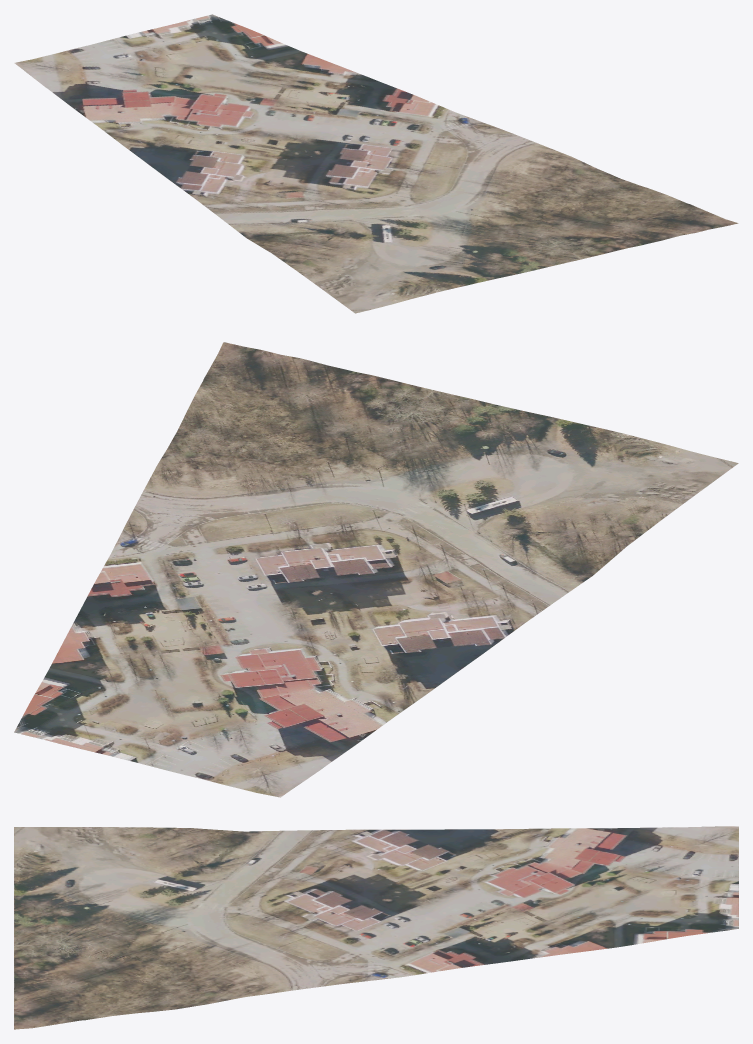
Rendered from CM_Terrain_24491892_6819794.fbx.
The picture shows the model from 3 angles, top to bottom: view 1: azimuth 30°, elevation 25°; view 2: azimuth 150°, elevation 25°; view 3: azimuth 270°, elevation 25°; orthographic projection. The views are drawn at different scales.
Parts seen in each view (by area): view 1: CM_Terrain_24491892_6819794_LOD0; view 2: CM_Terrain_24491892_6819794_LOD0; view 3: CM_Terrain_24491892_6819794_LOD0.
Boxes of the visible parts, <box> form: CM_Terrain_24491892_6819794_LOD0: <box>14,14,738,313</box>; CM_Terrain_24491892_6819794_LOD0: <box>14,342,738,797</box>; CM_Terrain_24491892_6819794_LOD0: <box>14,826,738,1029</box>.
Size of what is drawn, in the model's own units: 133 by 2.28 by 205.
